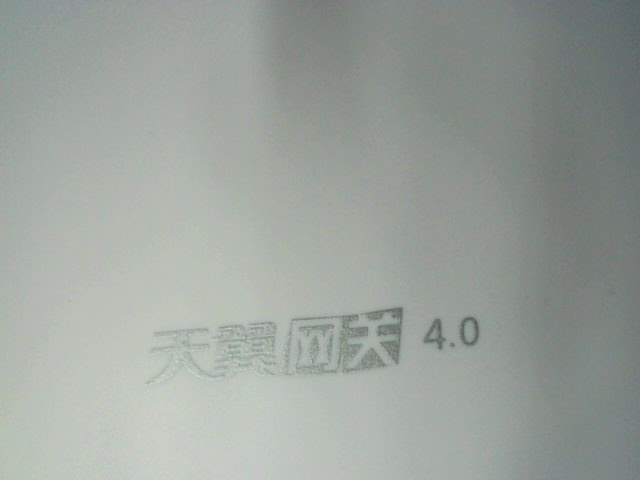BM_TianYiWangGuan: (148, 302, 487, 392)
